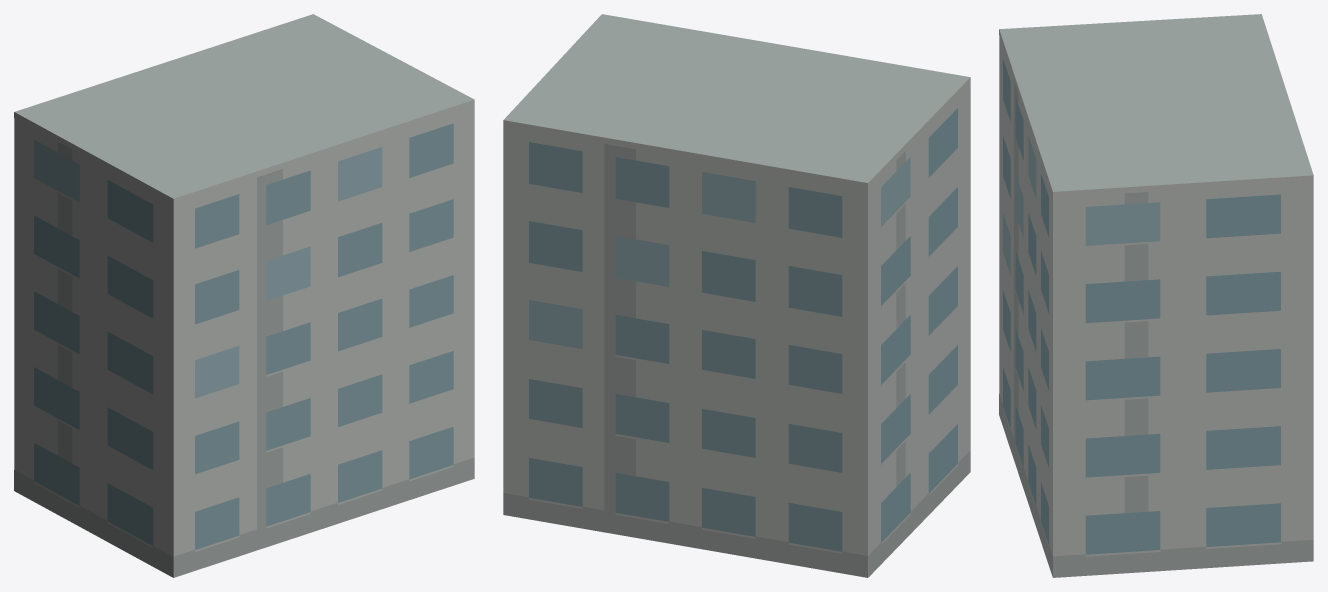
Rendered from survey-upis-32740776.glb.
The picture shows the model from 3 angles, left to right: view 1: azimuth 30°, elevation 25°; view 2: azimuth 150°, elevation 25°; view 3: azimuth 270°, elevation 25°; orthographic projection. The views are drawn at different scales.
Parts seen in each view (by area): view 1: survey-upis-32740776.tmp; view 2: survey-upis-32740776.tmp; view 3: survey-upis-32740776.tmp.
Boxes of the visible parts, box(x1,y1,x2,y2) form: survey-upis-32740776.tmp: box(14, 14, 474, 577); survey-upis-32740776.tmp: box(503, 14, 970, 577); survey-upis-32740776.tmp: box(999, 14, 1313, 577).
Bounding box in the file's own units: 15.08 × 15.25 × 11.27.
